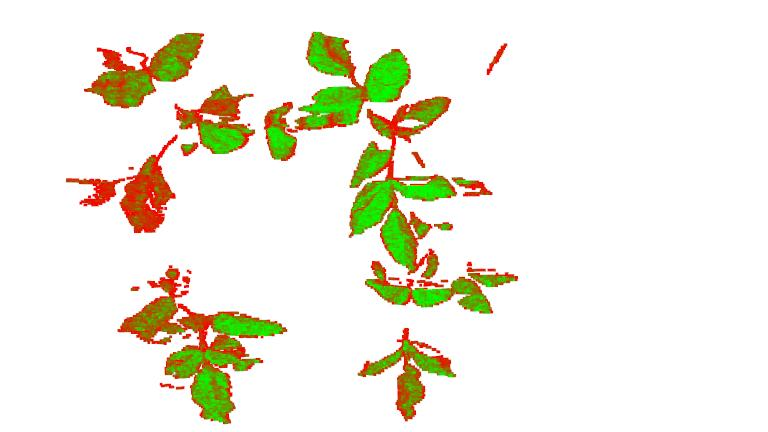mungbean: (298, 27, 482, 264), (63, 16, 258, 235), (355, 248, 522, 425), (117, 261, 288, 425)
